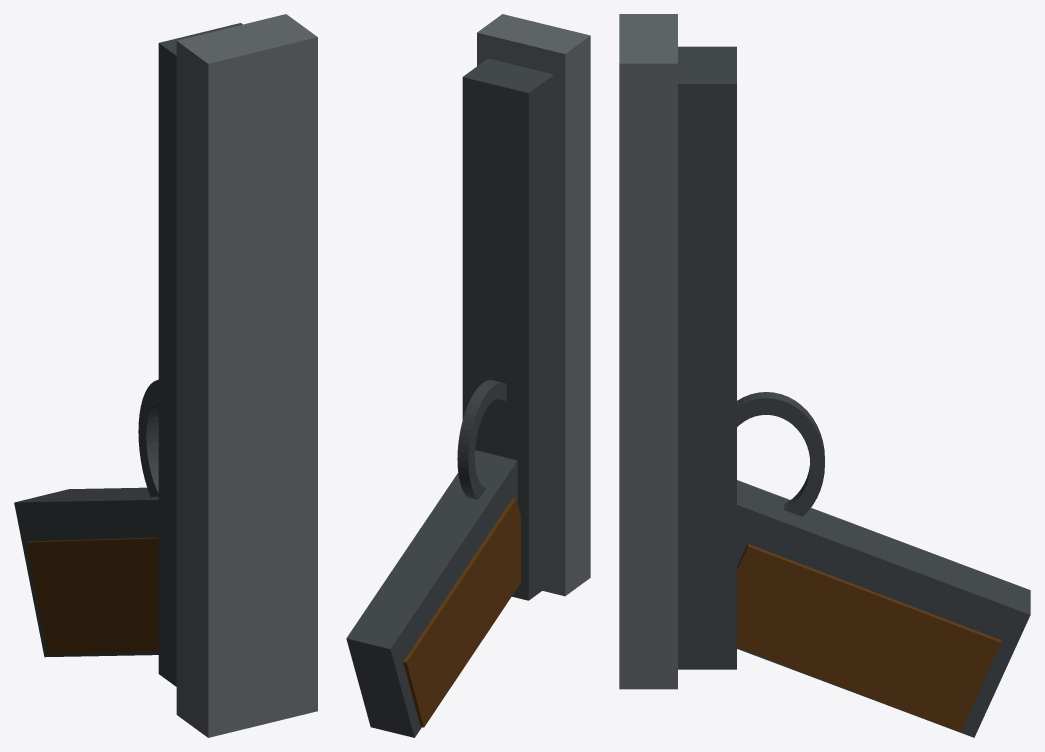
Rendered from tinker.obj.
3 views of the same model, side by side, from view 1: azimuth 30°, elevation 25°; view 2: azimuth 150°, elevation 25°; view 3: azimuth 270°, elevation 25° (orthographic). The views are drawn at different scales.
Visible parts, largest first — view 1: obj_5, obj_3, obj_1, obj_0, obj_4; view 2: obj_1, obj_5, obj_0, obj_3, obj_4; view 3: obj_5, obj_1, obj_2, obj_0, obj_4.
Part boxes in pixels (<box>): obj_5: <box>176,14,317,737</box>; obj_3: <box>25,537,158,654</box>; obj_1: <box>158,23,242,686</box>; obj_0: <box>14,487,158,657</box>; obj_4: <box>138,379,158,496</box>; obj_1: <box>462,58,554,600</box>; obj_5: <box>477,14,590,596</box>; obj_0: <box>346,450,517,737</box>; obj_3: <box>403,498,520,727</box>; obj_4: <box>457,380,506,499</box>; obj_5: <box>619,14,677,689</box>; obj_1: <box>678,46,736,669</box>; obj_2: <box>737,544,1001,732</box>; obj_0: <box>737,480,1030,737</box>; obj_4: <box>737,392,824,516</box>.
Bounding box in the file's own units: 4 × 25.8 × 14.
